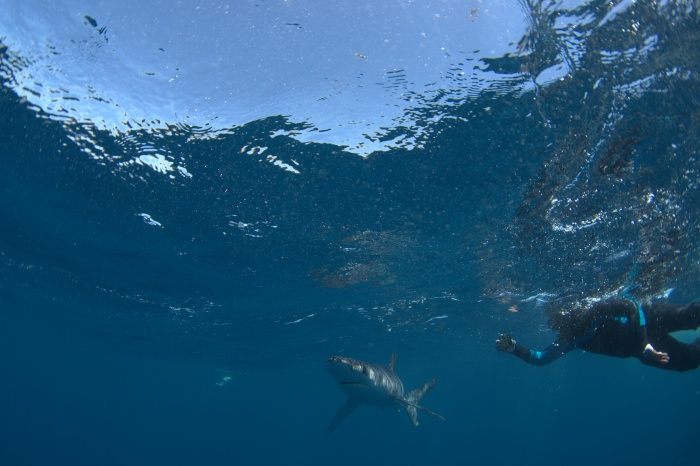Azul: (298, 336, 438, 447)
